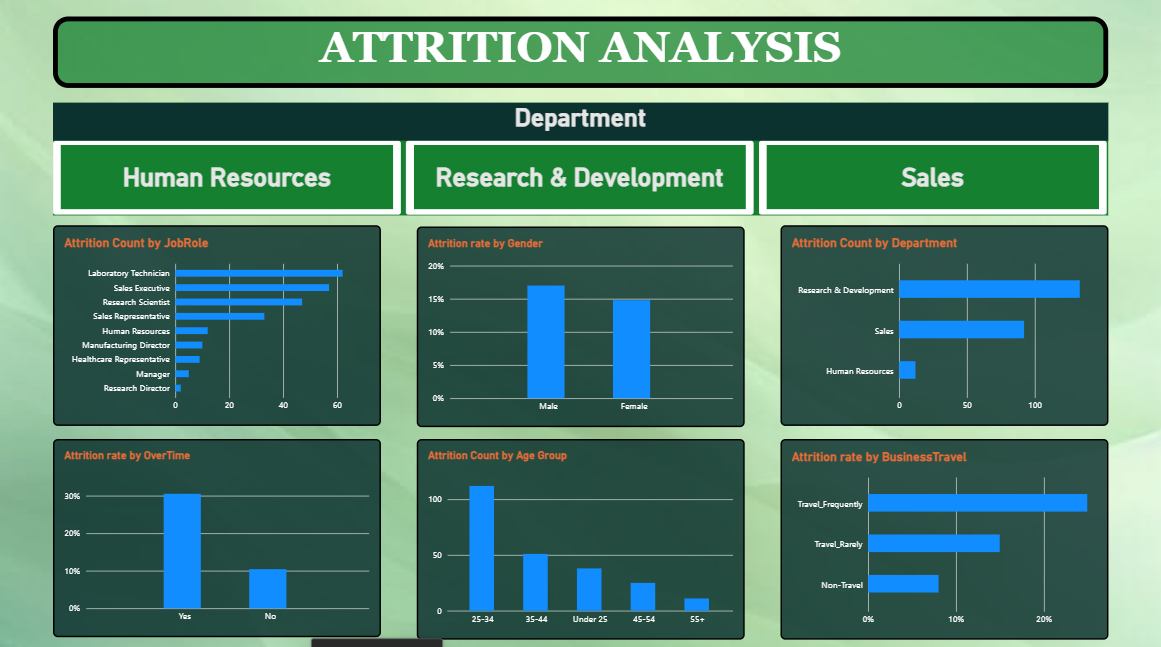

This screenshot's page, from the dashboard's own definition file:
{"tool":"powerbi","page":{"name":"Attrition Analysis","canvas":[1920,1080],"ordinal":1},"visuals":[{"type":"clusteredBarChart","fields":{"Category":["HR.Department"],"Y":["HR.Attrition Count"]},"box":[1288,372,540,330],"z":0},{"type":"clusteredColumnChart","fields":{"Category":["HR.Age Group"],"Y":["HR.Attrition Count"]},"box":[690,724,540,330],"z":1000},{"type":"clusteredBarChart","fields":{"Category":["HR.JobRole"],"Y":["HR.Attrition Count"]},"box":[90,372,540,330],"z":2000},{"type":"clusteredColumnChart","fields":{"Category":["HR.OverTime"],"Y":["HR.Attrition rate"]},"box":[90,724,540,326],"z":3000},{"type":"clusteredColumnChart","fields":{"Category":["HR.Gender"],"Y":["HR.Attrition rate"]},"box":[690,374,540,330],"z":4000},{"type":"clusteredBarChart","fields":{"Category":["HR.BusinessTravel"],"Y":["HR.Attrition rate"]},"box":[1288,724,540,330],"z":5000},{"type":"advancedSlicerVisual","title":"Department","fields":{"Label":["Min(HR.Age Group)"],"Values":["HR.Department"]},"box":[90.6,170.8,1737.2,185.2],"z":6000},{"type":"textbox","box":[90.6,28.8,1737.2,117.3],"z":6001}]}

Visuals, with their boxes in screenshot pixels (x1, y1, x2, y2), scaled from the page's 1920x1080 canvas onto the 1161x647 screenshot:
clusteredBarChart - HR.Department x HR.Attrition Count: region(779, 223, 1105, 421)
clusteredColumnChart - HR.Age Group x HR.Attrition Count: region(417, 434, 744, 631)
clusteredBarChart - HR.JobRole x HR.Attrition Count: region(54, 223, 381, 421)
clusteredColumnChart - HR.OverTime x HR.Attrition rate: region(54, 434, 381, 629)
clusteredColumnChart - HR.Gender x HR.Attrition rate: region(417, 224, 744, 422)
clusteredBarChart - HR.BusinessTravel x HR.Attrition rate: region(779, 434, 1105, 631)
"Department" advancedSlicerVisual: region(55, 102, 1105, 213)
textbox: region(55, 17, 1105, 88)
